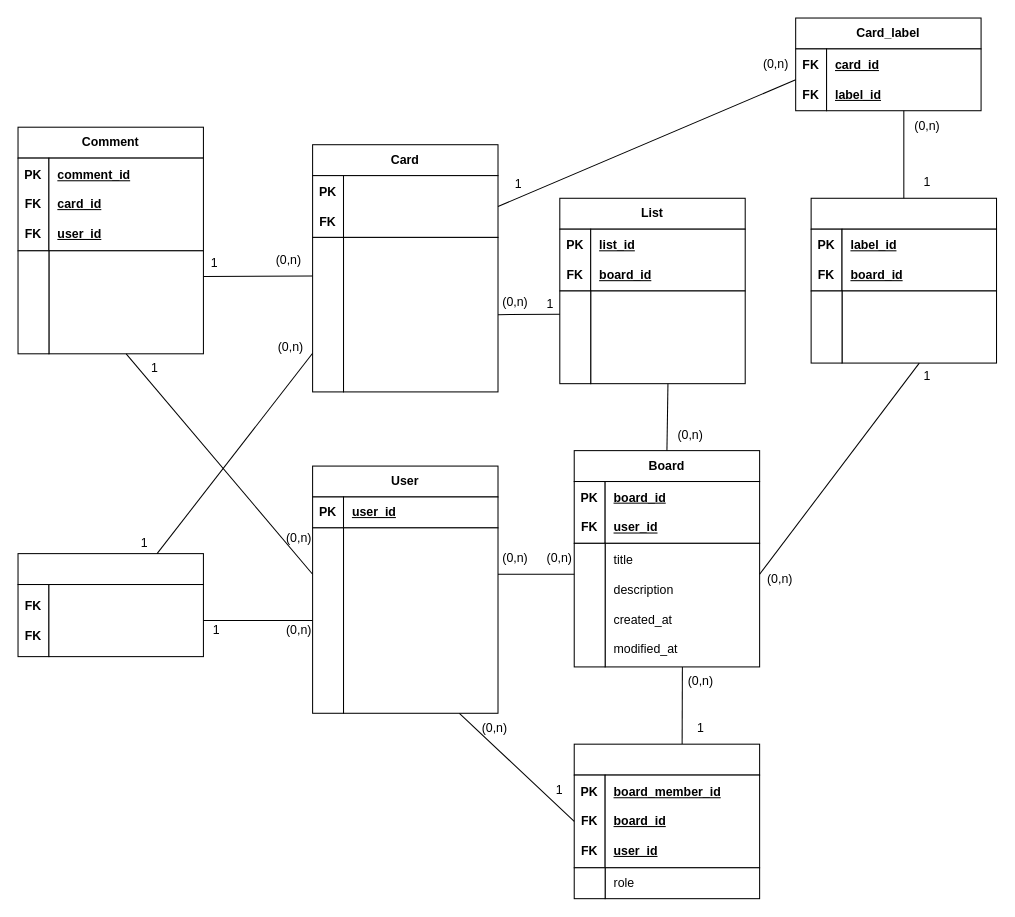
The diagram is 1015 pixels wide and 917 high, and some of its shapes have lost their labels. Each missing label, with the centre of its shape:
Board_member: point (666, 759)
card_id list_id: point (420, 206)
card_id user_id: point (125, 620)
Card_member: point (110, 569)
content created_at modified_at: point (125, 302)
first_name last_name email password created_at modified_at: point (420, 620)
Label: point (903, 213)
title color: point (919, 326)
title description position created_at modified_at: point (420, 314)
title position color: point (667, 337)
